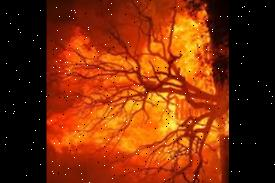fire: (48, 0, 229, 183)
